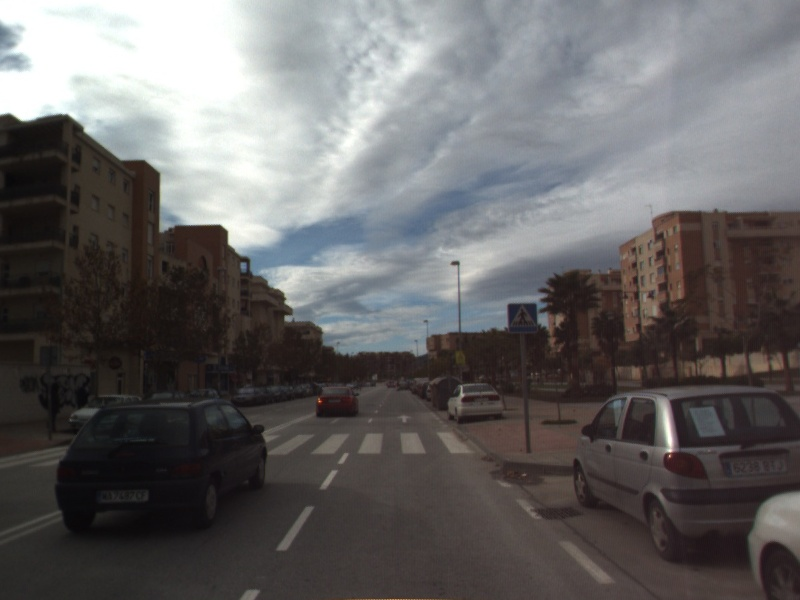STRAIGHT: (395, 412, 414, 425)
